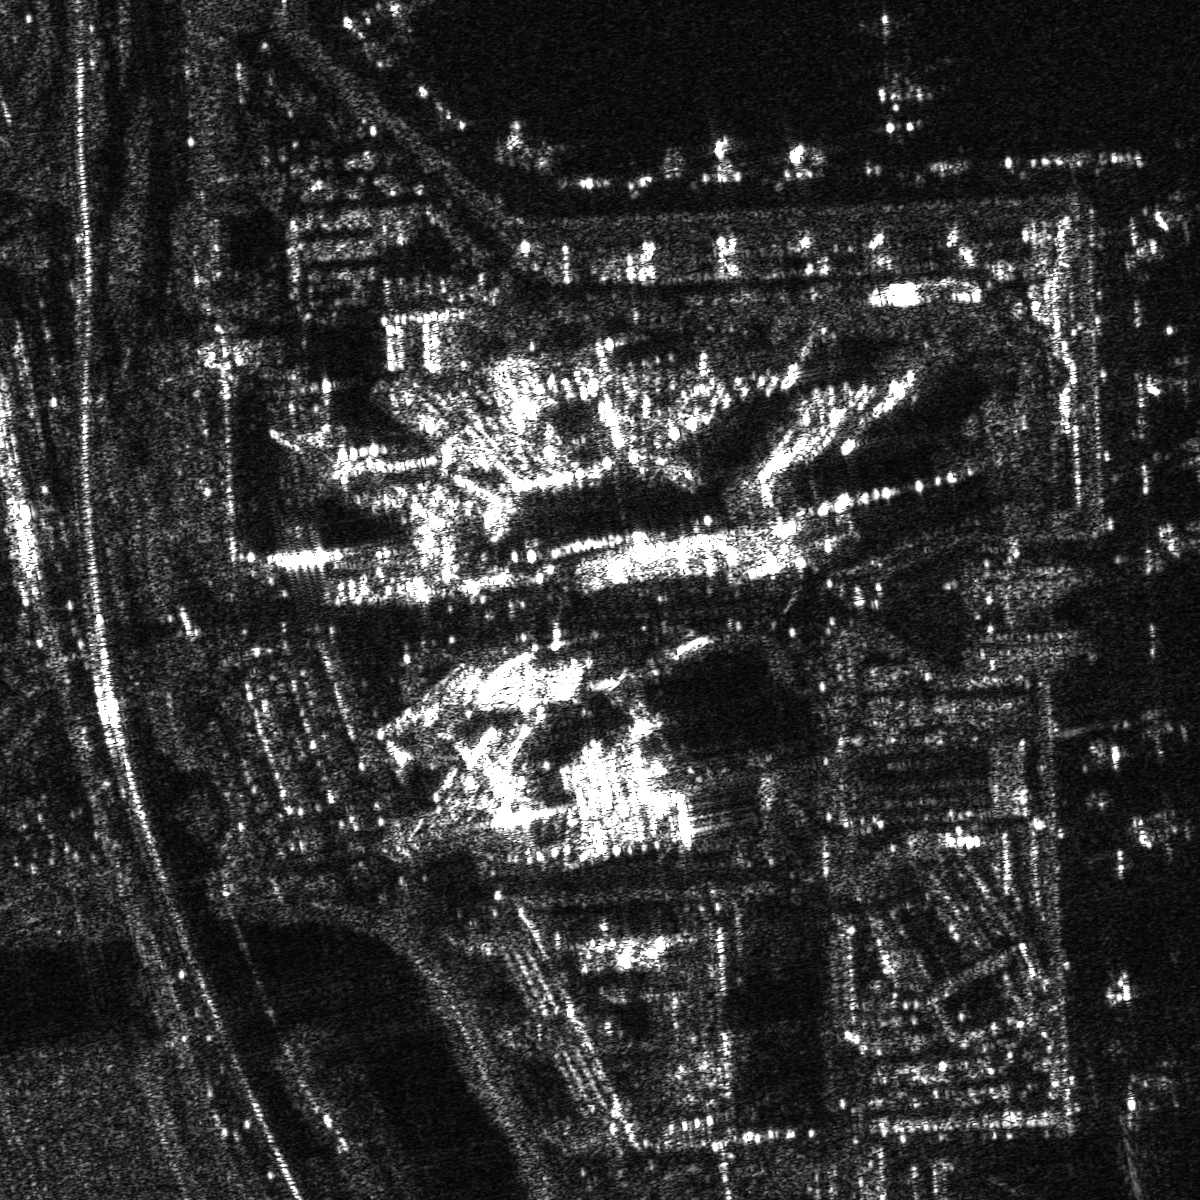A220: (1126, 695, 1199, 764), (1121, 801, 1199, 865), (1124, 1046, 1198, 1113), (1147, 344, 1199, 410), (1143, 203, 1195, 262)
Boeing787: (826, 5, 973, 146)
